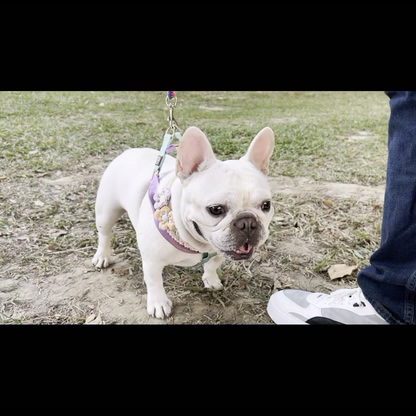bulldog: (90, 123, 281, 322)
